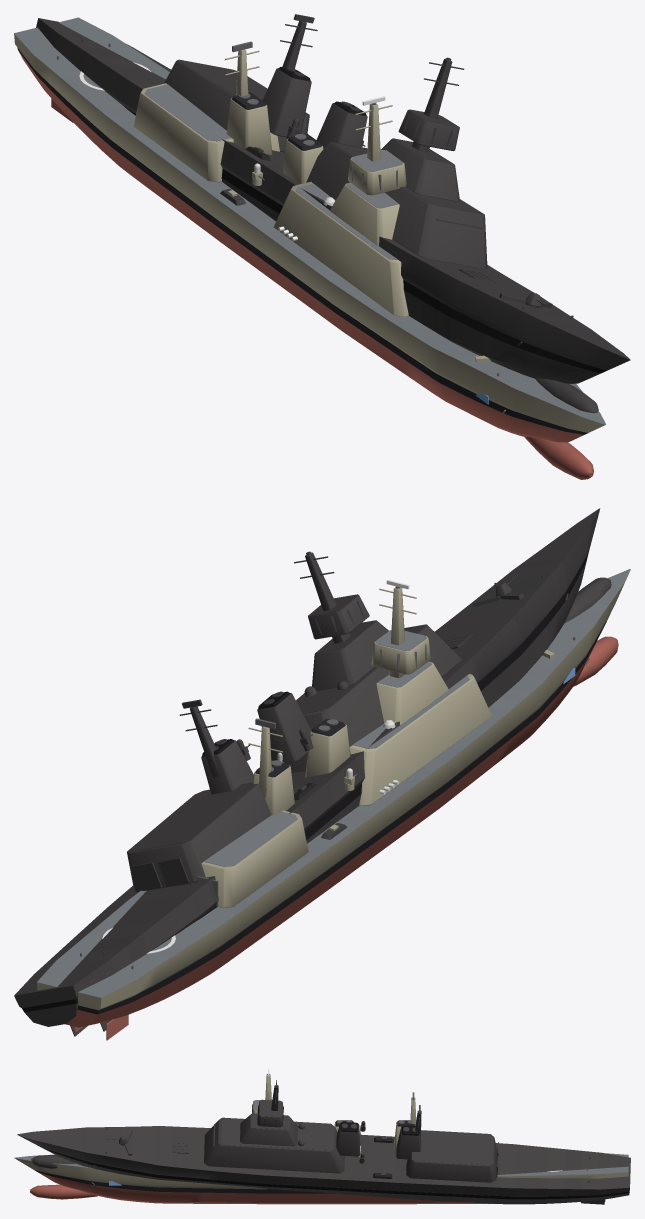
File: destroyer__visakhapatnam_class.glb
The picture shows the model from 3 angles, top to bottom: view 1: azimuth 30°, elevation 25°; view 2: azimuth 150°, elevation 25°; view 3: azimuth 270°, elevation 25°; orthographic projection. The views are drawn at different scales.
Visible parts, largest first — view 1: Hull_Mesh, Wreck; view 2: Hull_Mesh, Wreck; view 3: Wreck, Hull_Mesh.
Boxes of the visible parts, x1,y1,x2,y2 form: Hull_Mesh: (14,17,605,479); Wreck: (36,14,630,413); Hull_Mesh: (37,569,630,1040); Wreck: (14,508,611,1036); Wreck: (17,1080,630,1204); Hull_Mesh: (14,1074,628,1204).
Size of what is drawn, in the model's own units: 25.67 by 41.75 by 170.
